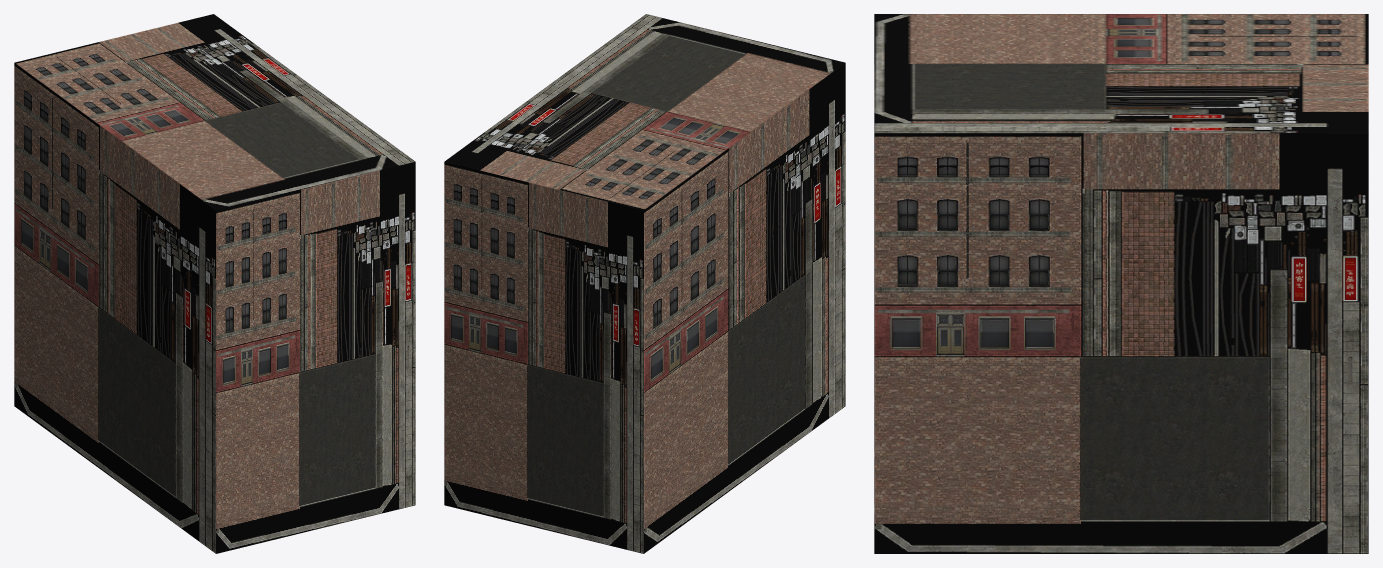
Rendered from Building_004.DAE.
3 renders of one model, left to right at view 1: azimuth 30°, elevation 25°; view 2: azimuth 150°, elevation 25°; view 3: azimuth 270°, elevation 25°, orthographic. The views are drawn at different scales.
Visible parts, largest first — view 1: bounds; view 2: bounds; view 3: bounds.
Boxes of the visible parts, bbox=[...] form: bounds: bbox=[14, 14, 415, 553]; bounds: bbox=[444, 14, 845, 553]; bounds: bbox=[874, 14, 1368, 553].
Bounding box in the file's own units: 1306 × 2288 × 2148.
